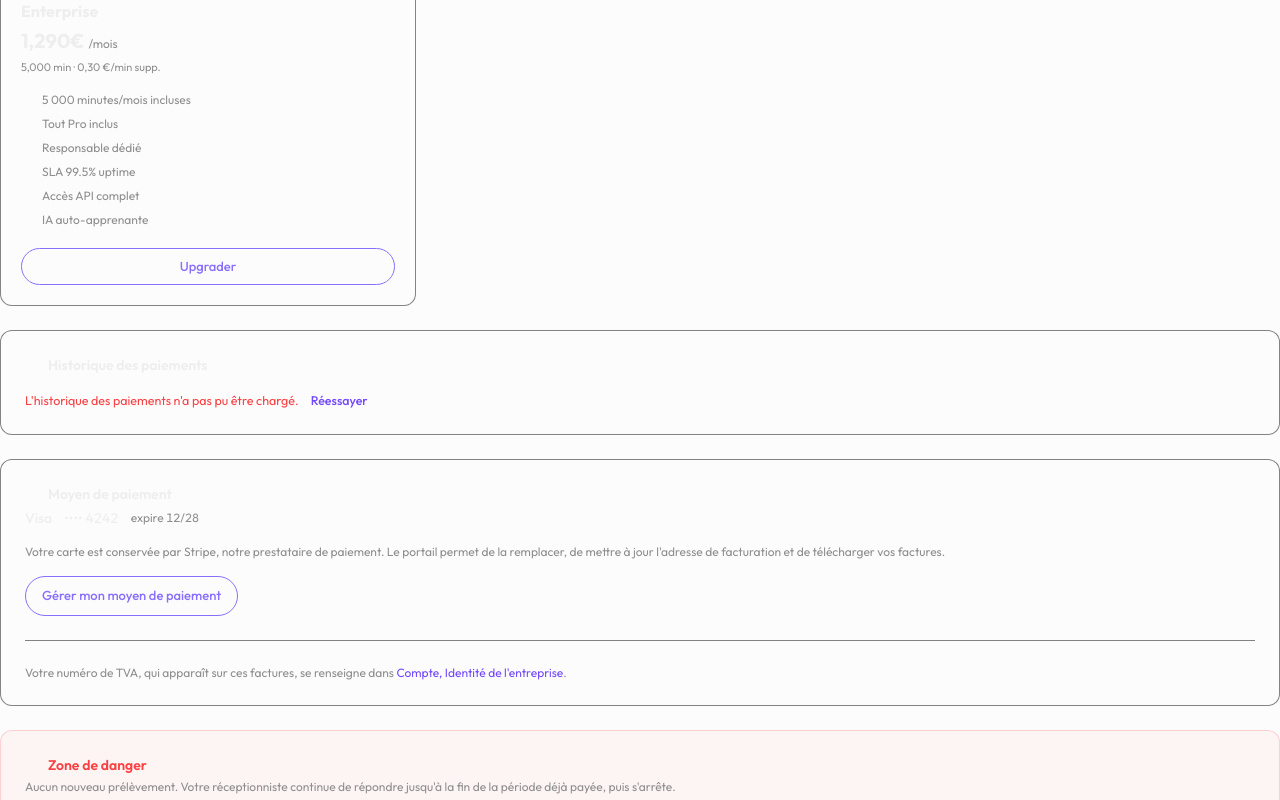
Test case: ClientBilling, erreur de lecture des paiements (A7) › le retry recharge les paiements et affiche les lignes reçues
The width and height of the screenshot is (1280, 800).
(page scrolled)
Click the button "Réessayer". click: (339, 401)
box: [311,391,368,410]
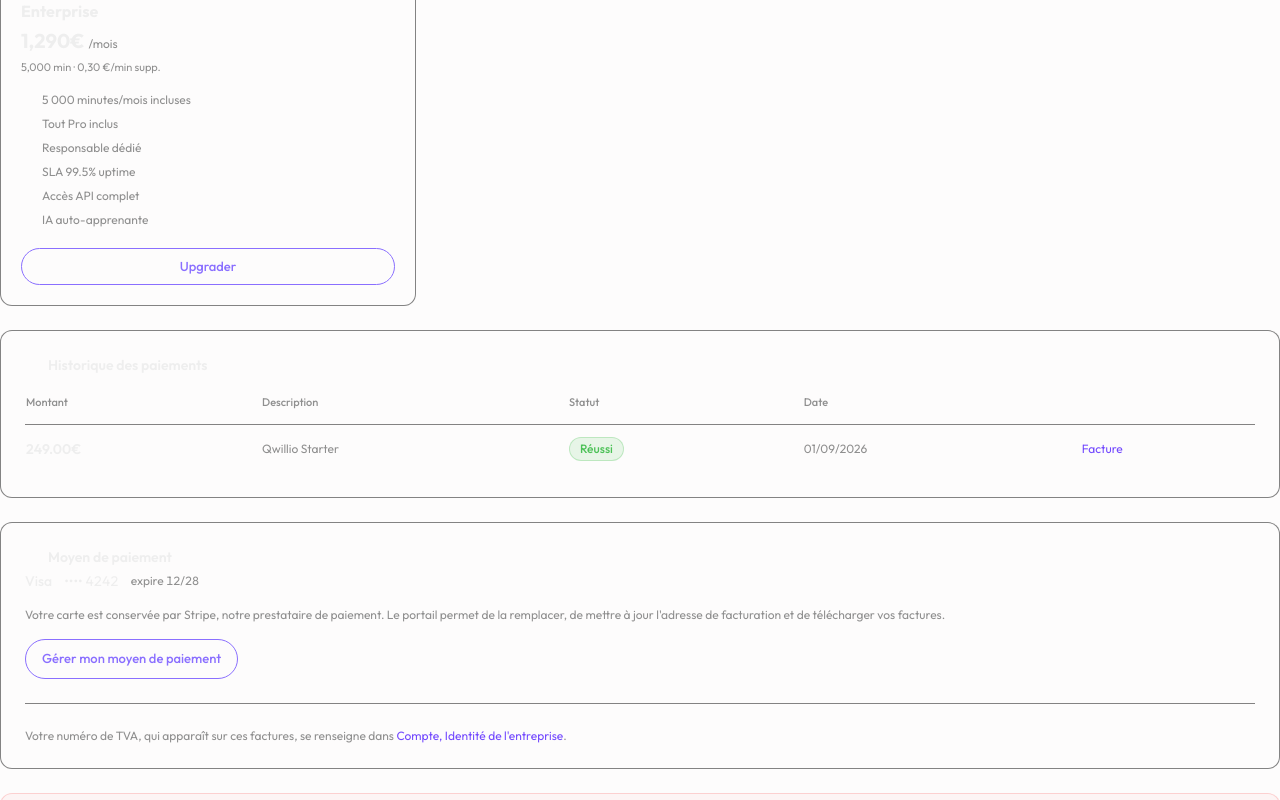
Check: the text "Qwillio Starter" is shown, box [261,425,568,473]
Check: the button "Réessayer" is gone
